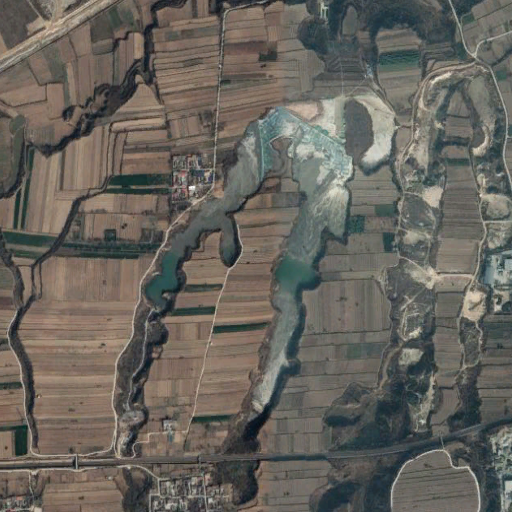tp: (108, 93, 395, 458)
